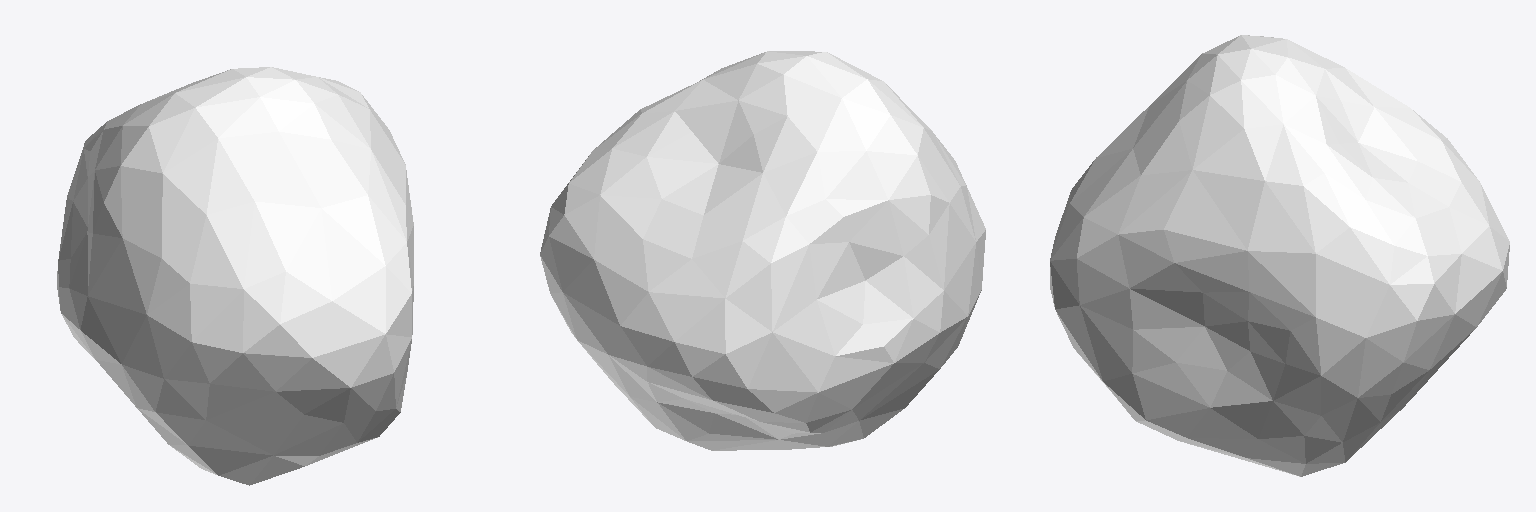
File: oolite_asteroid.obj
3 renders of one model, left to right at view 1: azimuth 30°, elevation 25°; view 2: azimuth 150°, elevation 25°; view 3: azimuth 270°, elevation 25°, orthographic.
Parts seen in each view (by area): view 1: oolite_asteroid.obj; view 2: oolite_asteroid.obj; view 3: oolite_asteroid.obj.
Part boxes in pixels (x1,y1,x2,y2): oolite_asteroid.obj: (57, 67, 413, 485); oolite_asteroid.obj: (540, 51, 985, 450); oolite_asteroid.obj: (1050, 35, 1509, 476).
Bounding box in the file's own units: 660 × 709 × 757.